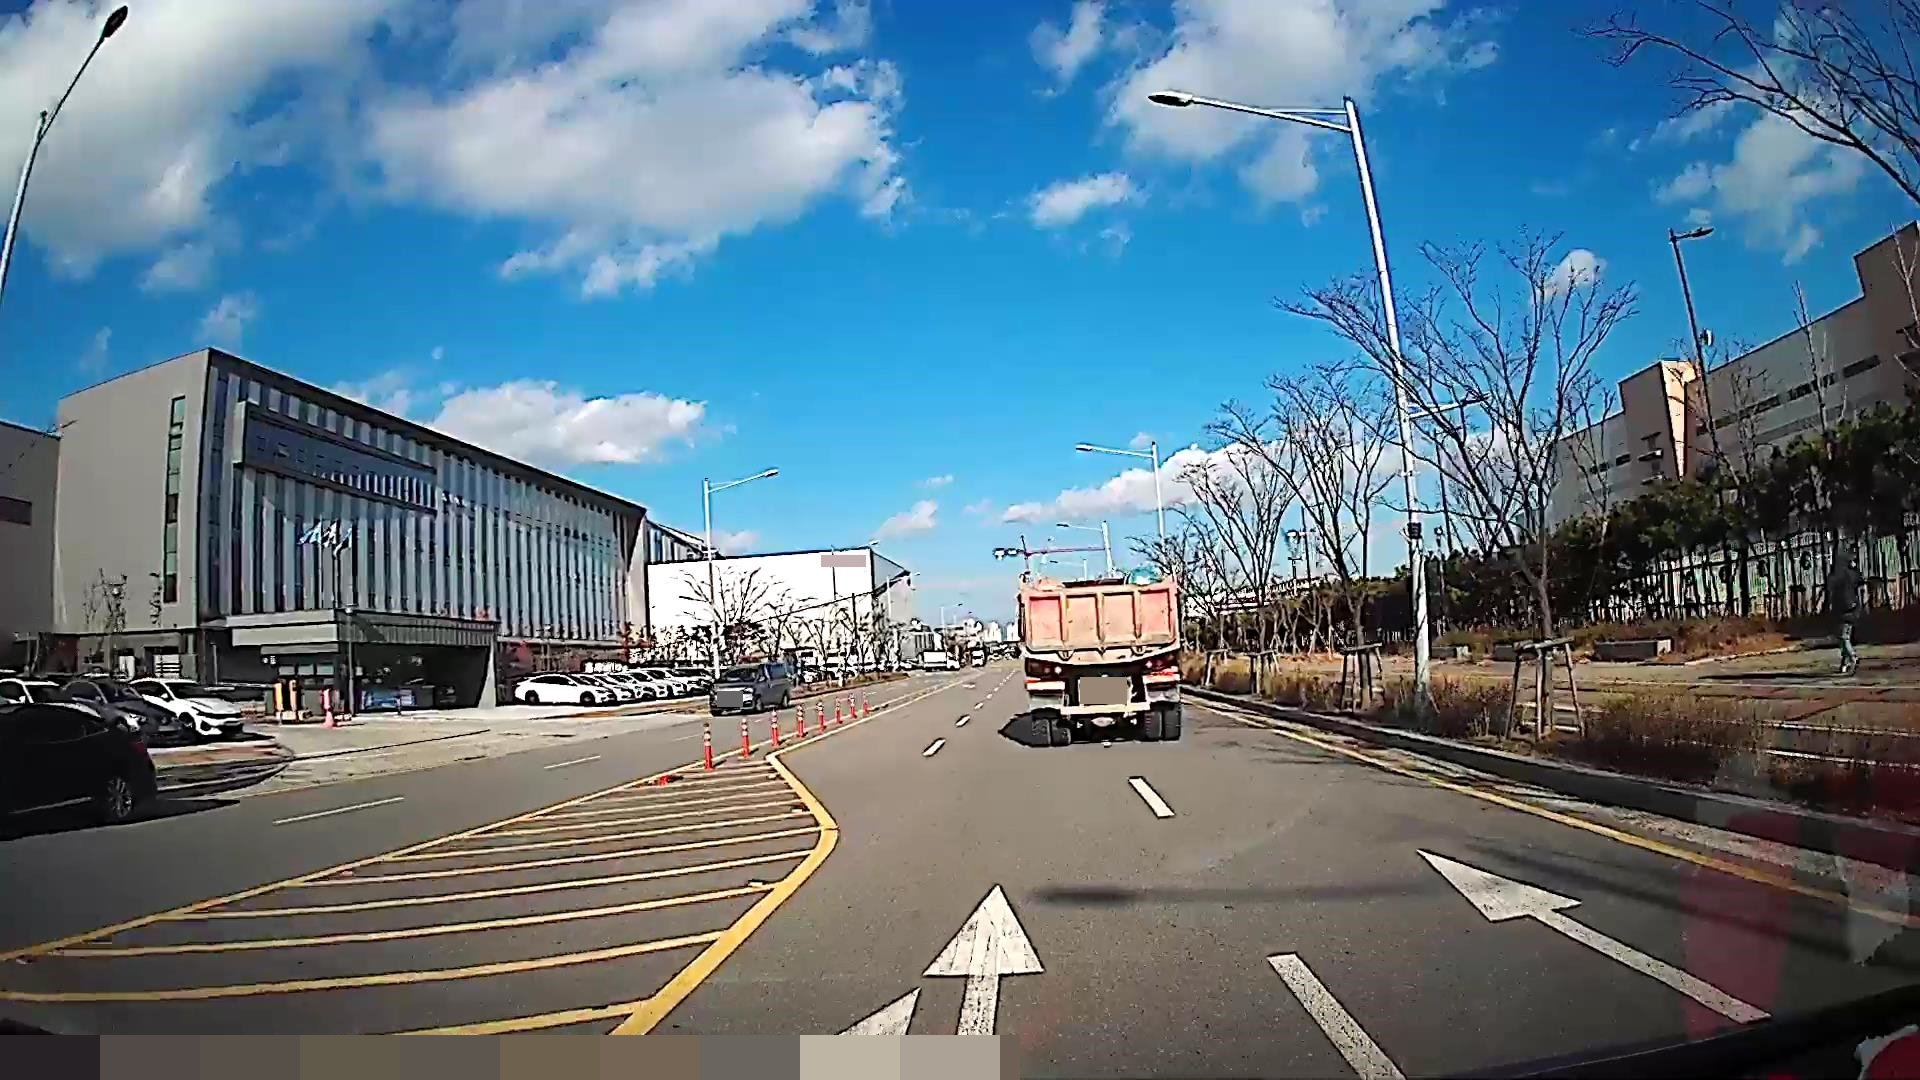불법차량: (1016, 565, 1182, 747)
